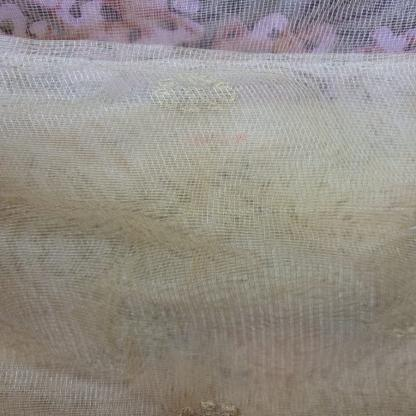spot: (190, 133, 261, 145)
